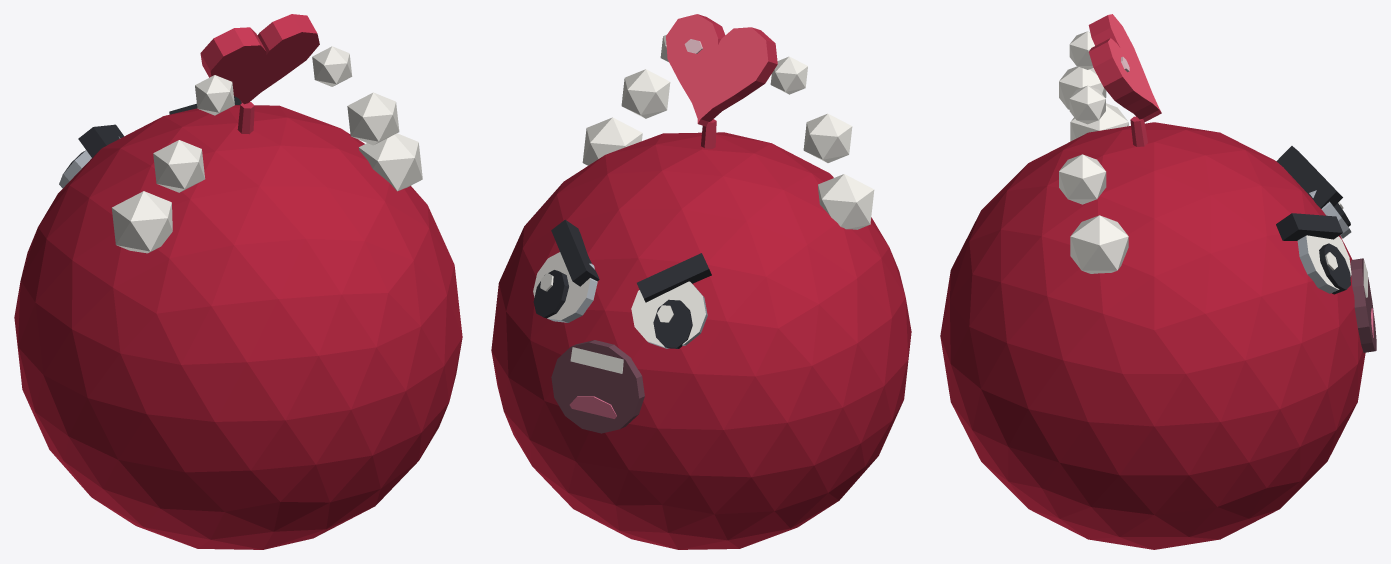
The model's file is CH_Cano_T5_Eat.fbx.
3 renders of one model, left to right at view 1: azimuth 30°, elevation 25°; view 2: azimuth 150°, elevation 25°; view 3: azimuth 270°, elevation 25°, orthographic. The views are drawn at different scales.
Parts seen in each view (by area): view 1: CH_Cano_T5_Eat; view 2: CH_Cano_T5_Eat; view 3: CH_Cano_T5_Eat.
Boxes of the visible parts, x1,y1,x2,y2 form: CH_Cano_T5_Eat: (14,14,462,549); CH_Cano_T5_Eat: (491,14,911,549); CH_Cano_T5_Eat: (940,14,1376,549).
Size of the model in its own units: 1 by 1.29 by 1.02.
